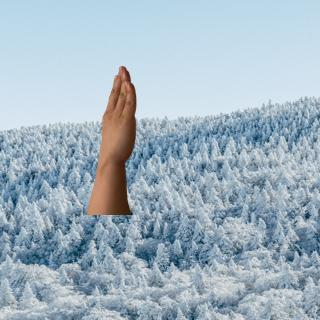RIGHT: (90, 59, 148, 173)
